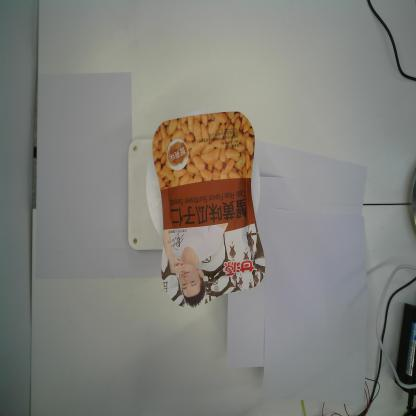Dried Fruit: (151, 110, 267, 310)
